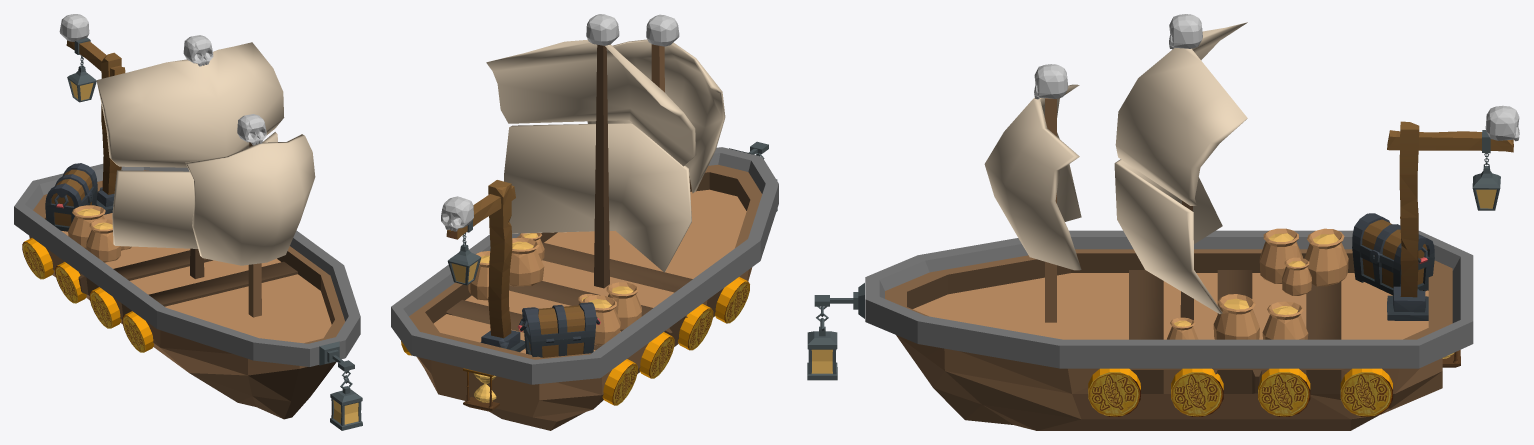
File: Boat_Level3.fbx
3 renders of one model, left to right at view 1: azimuth 30°, elevation 25°; view 2: azimuth 150°, elevation 25°; view 3: azimuth 270°, elevation 25°, orthographic. The views are drawn at different scales.
Parts seen in each view (by area): view 1: Boat, Lantern_Front, Lantern_Back; view 2: Boat, Lantern_Back; view 3: Boat, Lantern_Front, Lantern_Back.
Boxes of the visible parts, bbox=[...] form: Boat: bbox=[14, 14, 360, 419]; Lantern_Front: bbox=[330, 370, 362, 430]; Lantern_Back: bbox=[67, 55, 96, 102]; Boat: bbox=[391, 14, 778, 430]; Lantern_Back: bbox=[447, 232, 481, 285]; Boat: bbox=[814, 14, 1519, 430]; Lantern_Front: bbox=[807, 306, 837, 380]; Lantern_Back: bbox=[1472, 153, 1500, 210].
Size of the model in its own units: 340 by 525 by 848.
